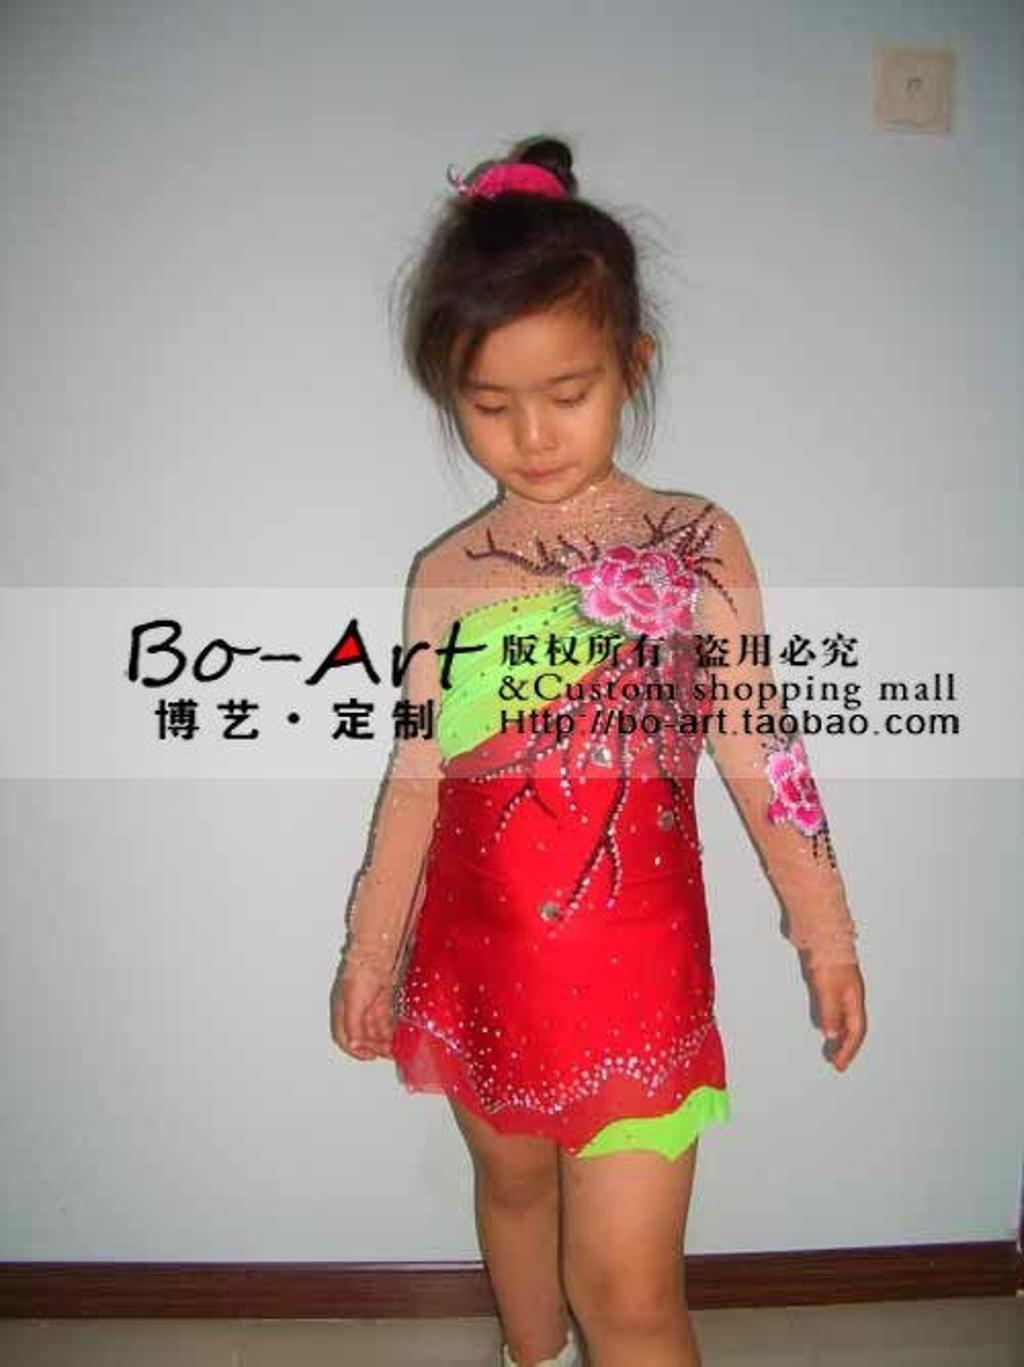face: (454, 302, 622, 499)
